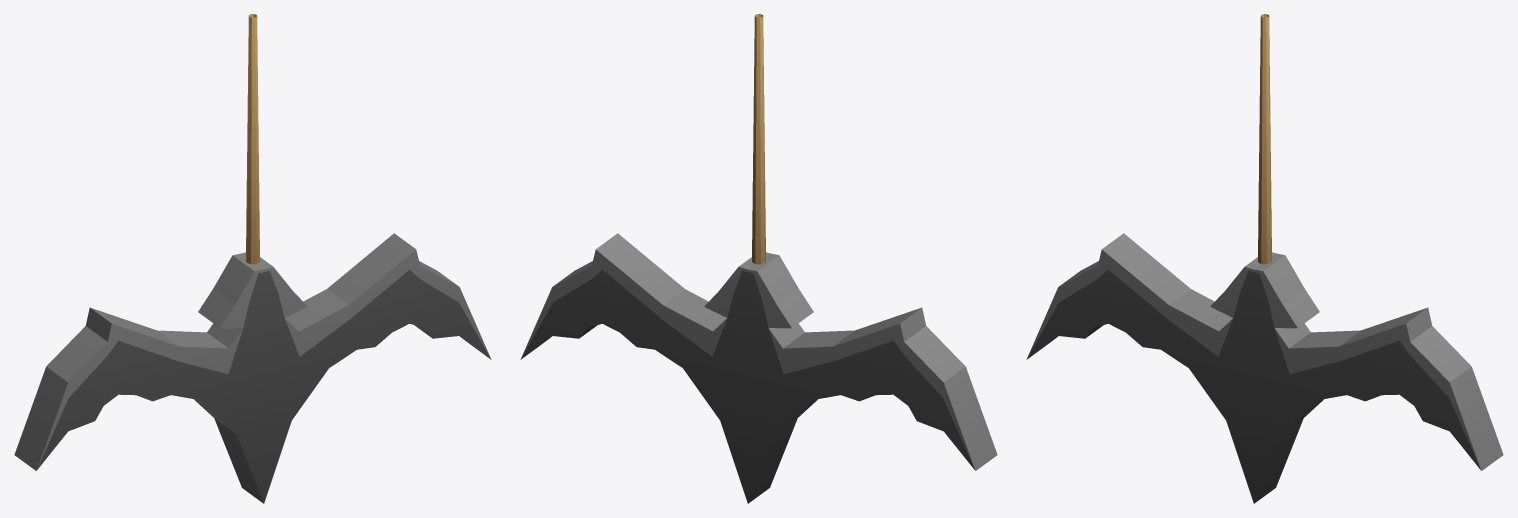
File: halloween bat.fbx
3 views of the same model, side by side, from view 1: azimuth 30°, elevation 25°; view 2: azimuth 150°, elevation 25°; view 3: azimuth 330°, elevation 25° (orthographic).
Visible parts, largest first — view 1: halloween bat; view 2: halloween bat; view 3: halloween bat.
Part boxes in pixels (x1=…): halloween bat: x1=14, y1=14, x2=491, y2=503; halloween bat: x1=520, y1=14, x2=997, y2=503; halloween bat: x1=1026, y1=14, x2=1503, y2=503.
Size of the model in its own units: 88.16 by 88.84 by 7.4.
